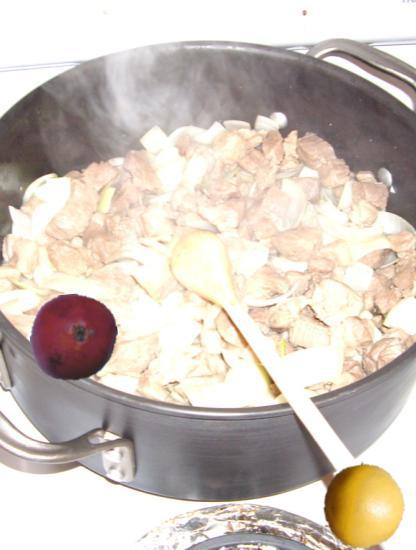Grapefruit: (320, 462, 407, 549)
Pomegranate: (30, 294, 119, 383)
